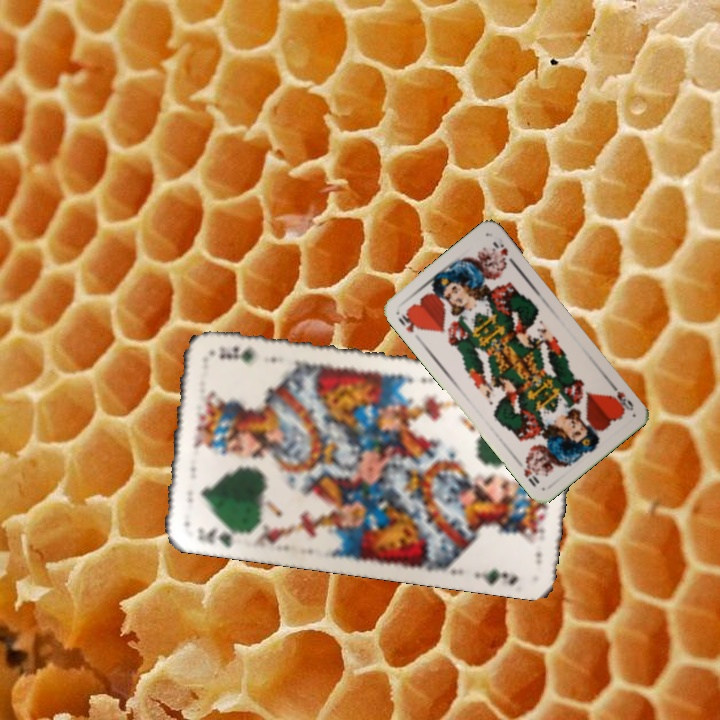GK: (193, 522, 243, 550)
HO: (606, 379, 636, 414), (394, 308, 424, 335)
